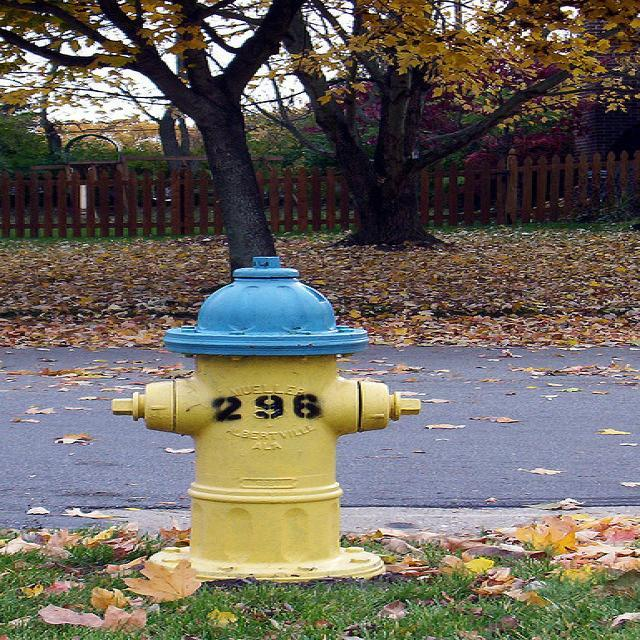fire_hydrant: (112, 257, 420, 583)
